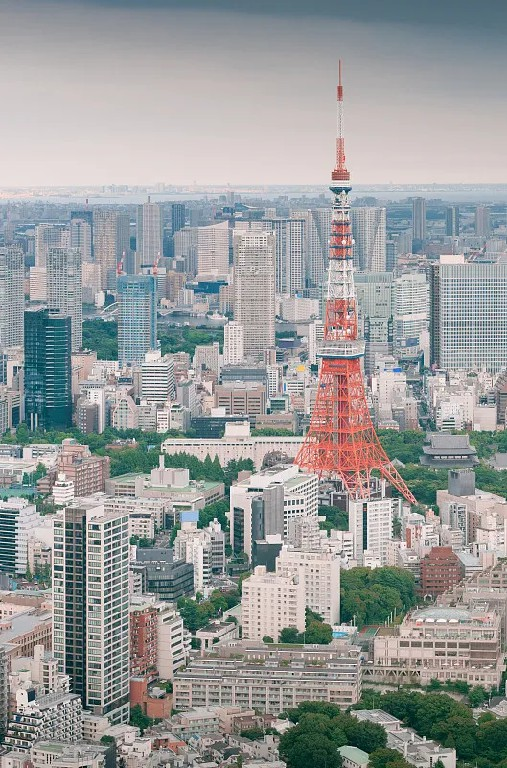Tokyo: (290, 57, 420, 509)
